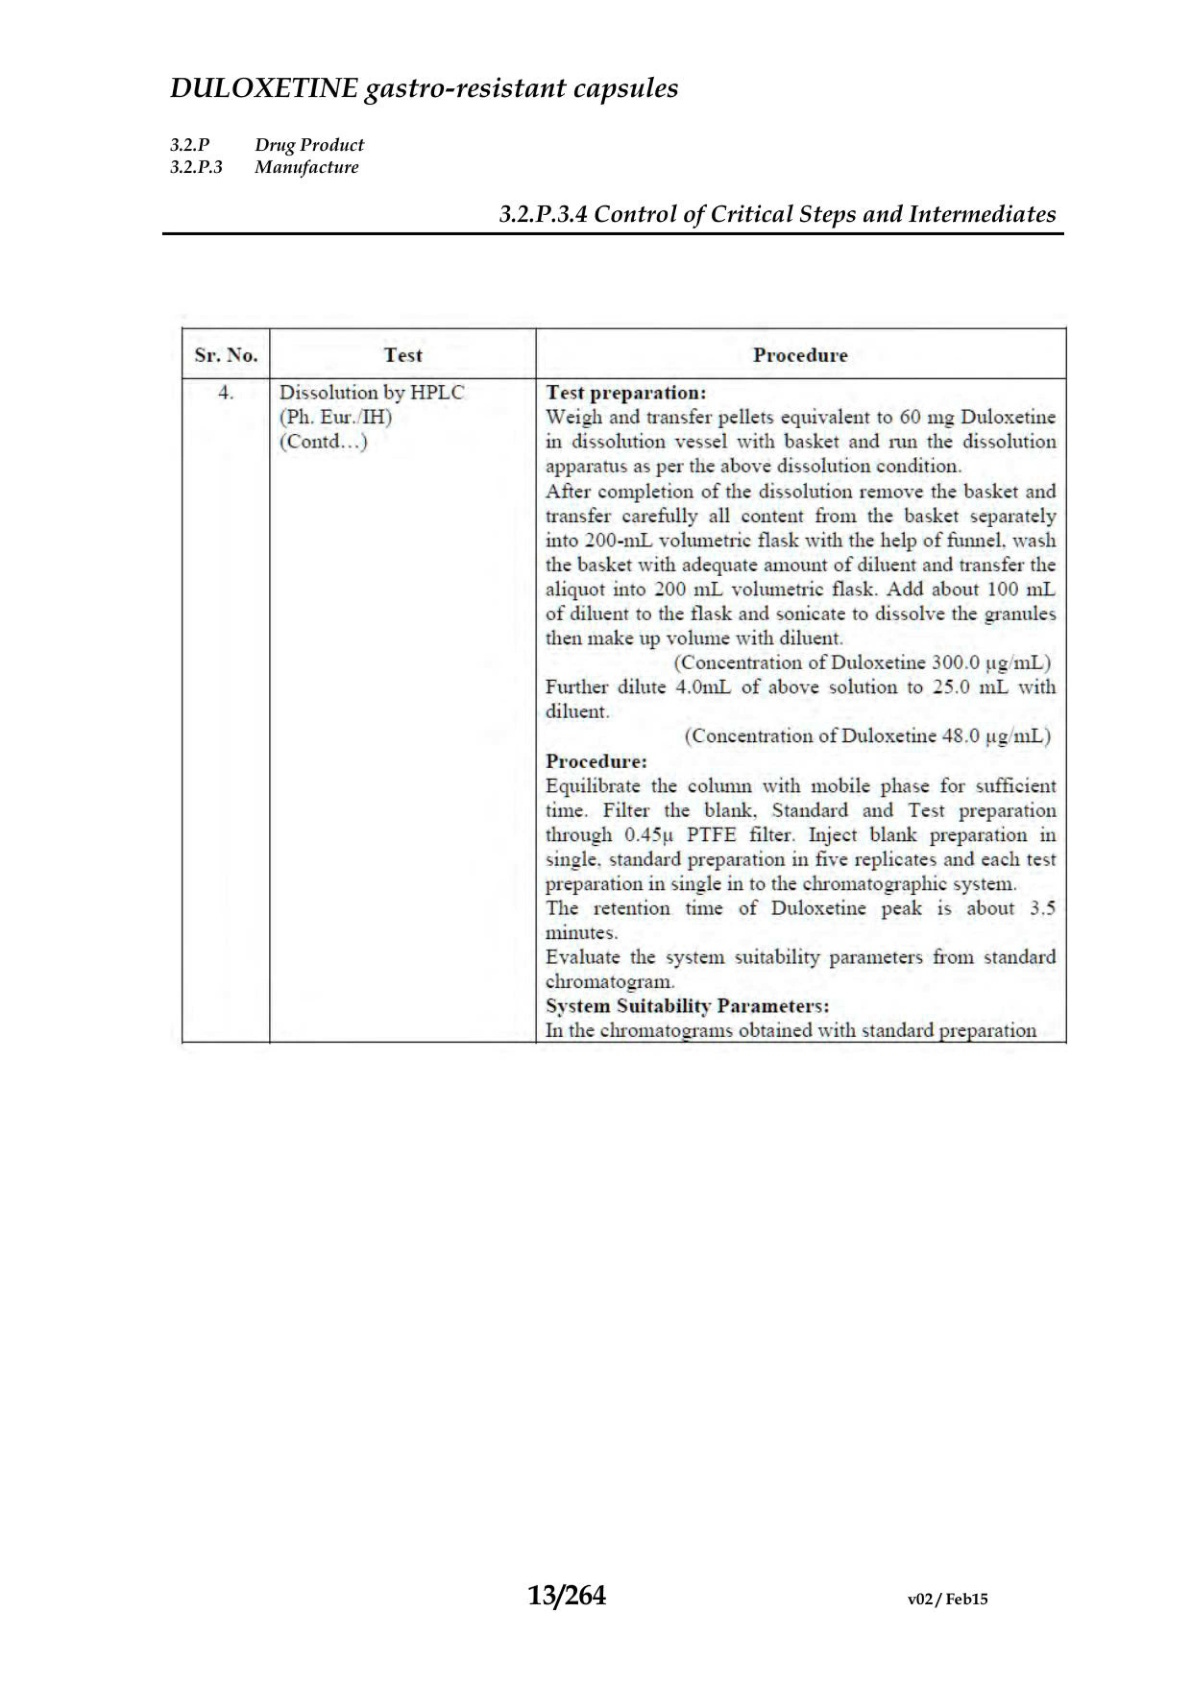full_lined: (181, 326, 1068, 1044)
